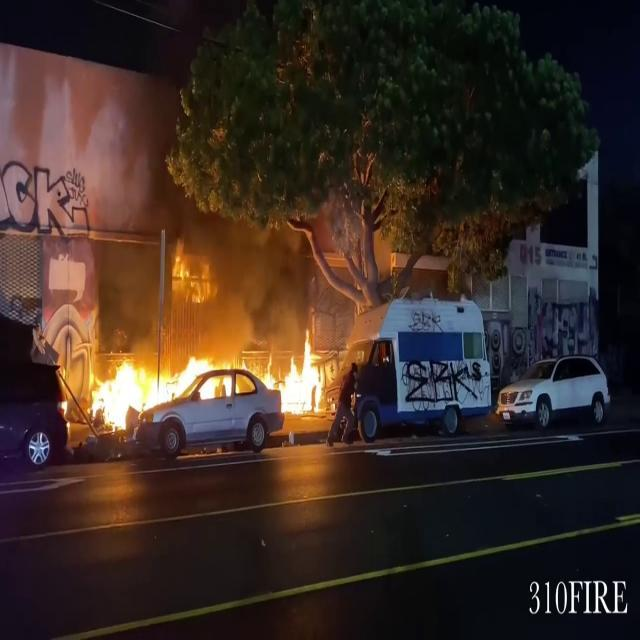Fire: (76, 339, 220, 432), (273, 328, 331, 421)
